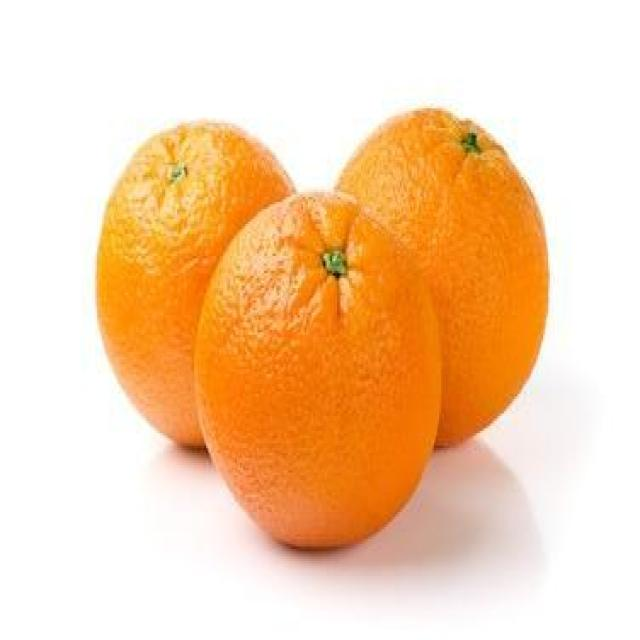orange: (194, 188, 441, 549)
